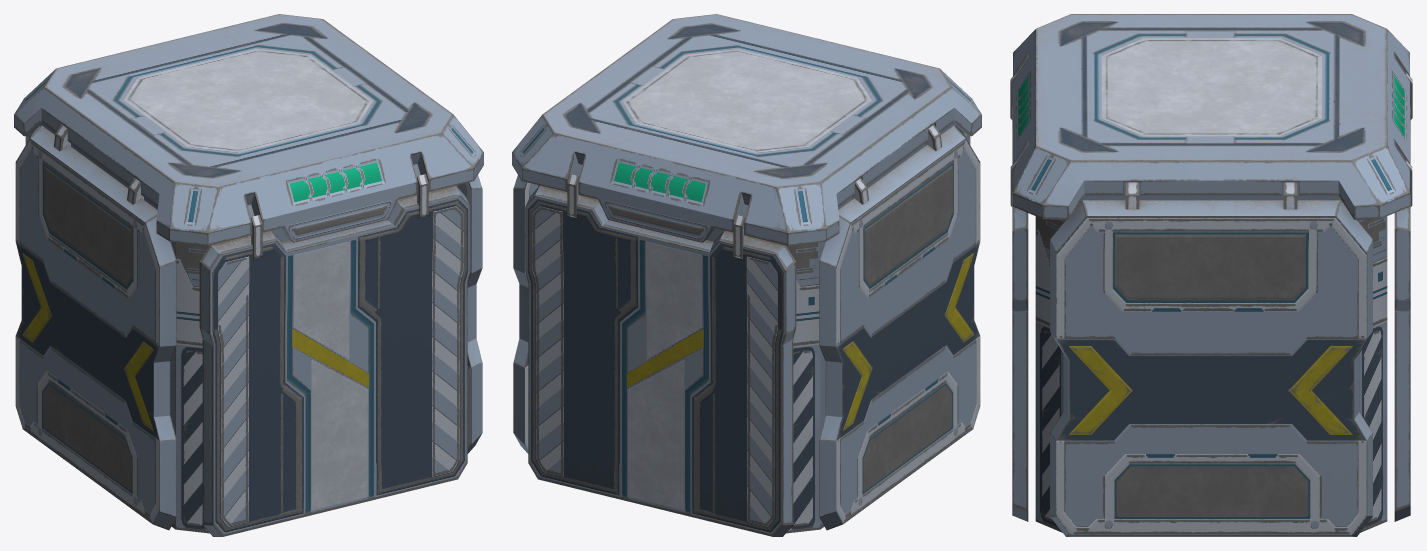
File: CrateSmall.fbx
The picture shows the model from 3 angles, left to right: view 1: azimuth 30°, elevation 25°; view 2: azimuth 150°, elevation 25°; view 3: azimuth 270°, elevation 25°; orthographic projection. The views are drawn at different scales.
Visible parts, largest first — view 1: polySurface3552; view 2: polySurface3552; view 3: polySurface3552.
Part boxes in pixels (x1,y1,x2,y2): polySurface3552: [14, 14, 483, 536]; polySurface3552: [512, 14, 981, 536]; polySurface3552: [1010, 14, 1412, 536].
Size of the model in its own units: 2.64 by 2.69 by 2.63.
